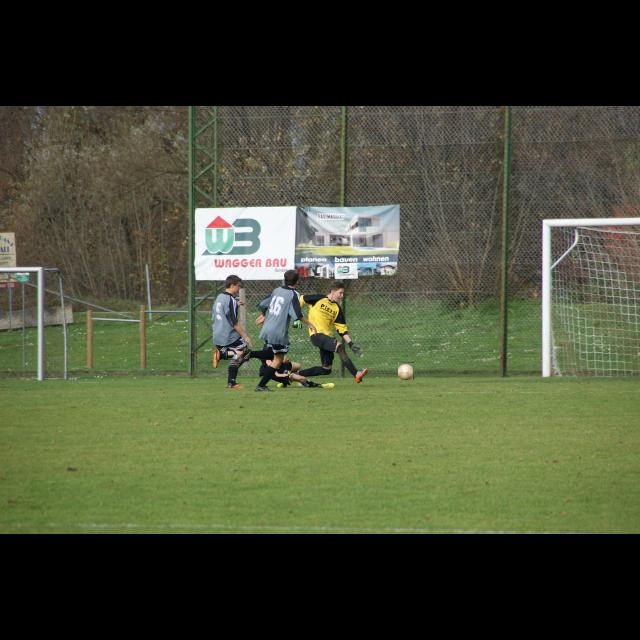Football: (398, 362, 414, 380)
